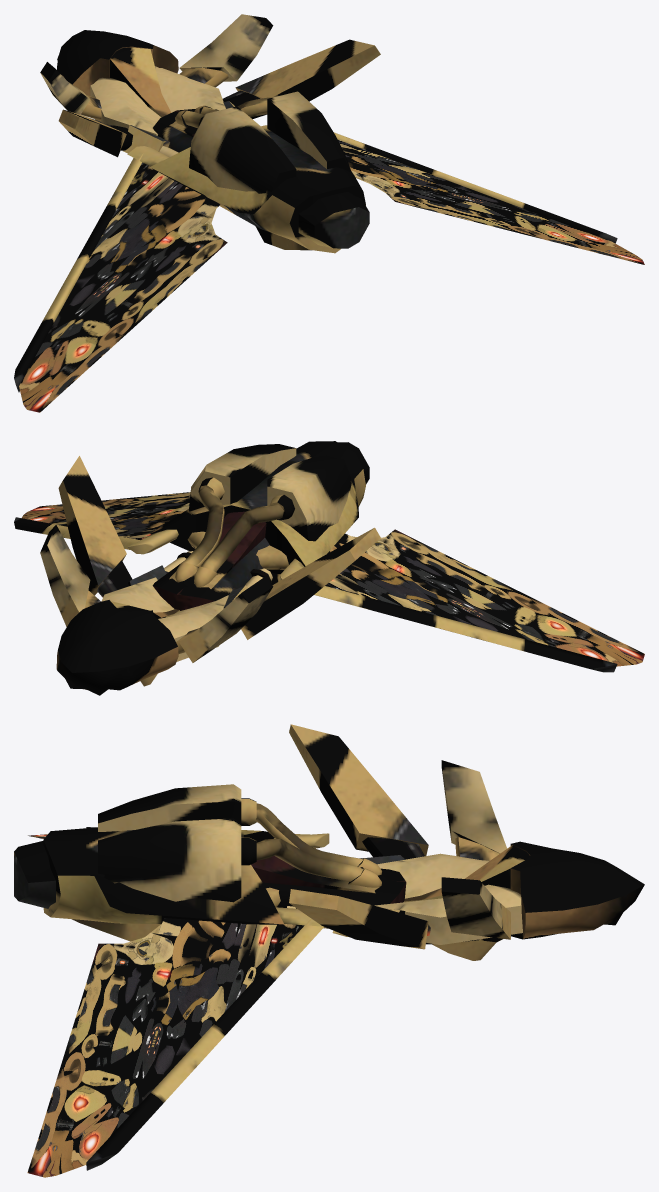
Rendered from ship19c.fbx.
The picture shows the model from 3 angles, top to bottom: view 1: azimuth 30°, elevation 25°; view 2: azimuth 150°, elevation 25°; view 3: azimuth 270°, elevation 25°; orthographic projection. The views are drawn at different scales.
Parts seen in each view (by area): view 1: PipelineFBX0, PipelineFBX1; view 2: PipelineFBX0, PipelineFBX1; view 3: PipelineFBX0, PipelineFBX1.
Part boxes in pixels (x1,y1,x2,y2): PipelineFBX0: (14, 14, 617, 392); PipelineFBX1: (19, 140, 644, 412); PipelineFBX0: (14, 441, 617, 695); PipelineFBX1: (22, 492, 644, 666); PipelineFBX0: (14, 724, 644, 1170); PipelineFBX1: (27, 834, 304, 1177).
Size of the model in its own units: 371 by 101 by 288.
Materials: 1 (1 with a texture image).
